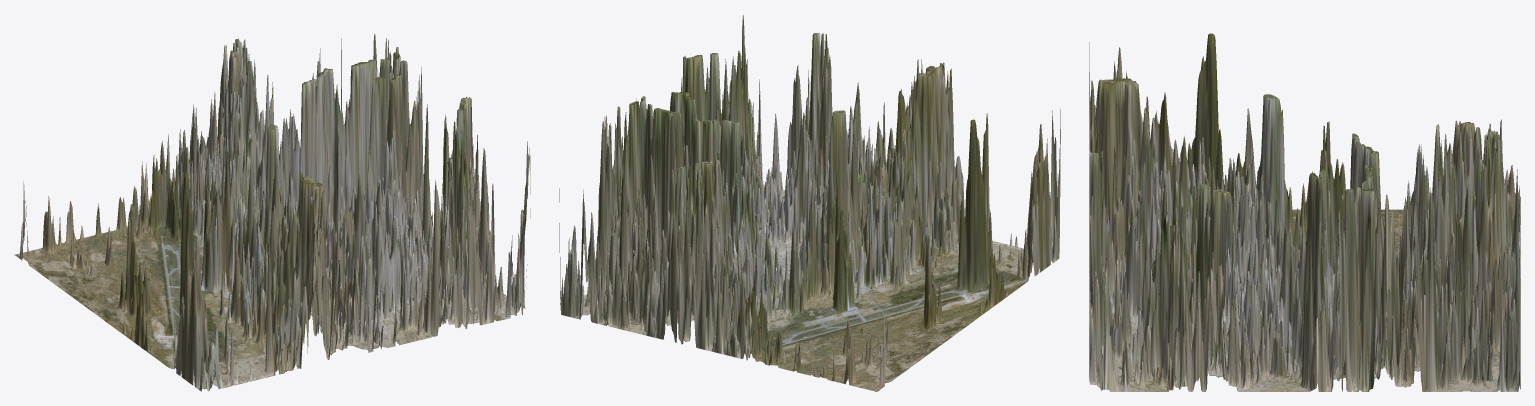
File: dsm_8704097021_mesh.glb
3 renders of one model, left to right at view 1: azimuth 30°, elevation 25°; view 2: azimuth 150°, elevation 25°; view 3: azimuth 270°, elevation 25°, orthographic. The views are drawn at different scales.
Visible parts, largest first — view 1: geometry_0; view 2: geometry_0; view 3: geometry_0.
Boxes of the visible parts, box(x1,y1,x2,y2) form: geometry_0: box(14, 34, 530, 391); geometry_0: box(559, 15, 1060, 391); geometry_0: box(1089, 33, 1520, 391).
Bounding box in the file's own units: 2 × 1 × 2.
